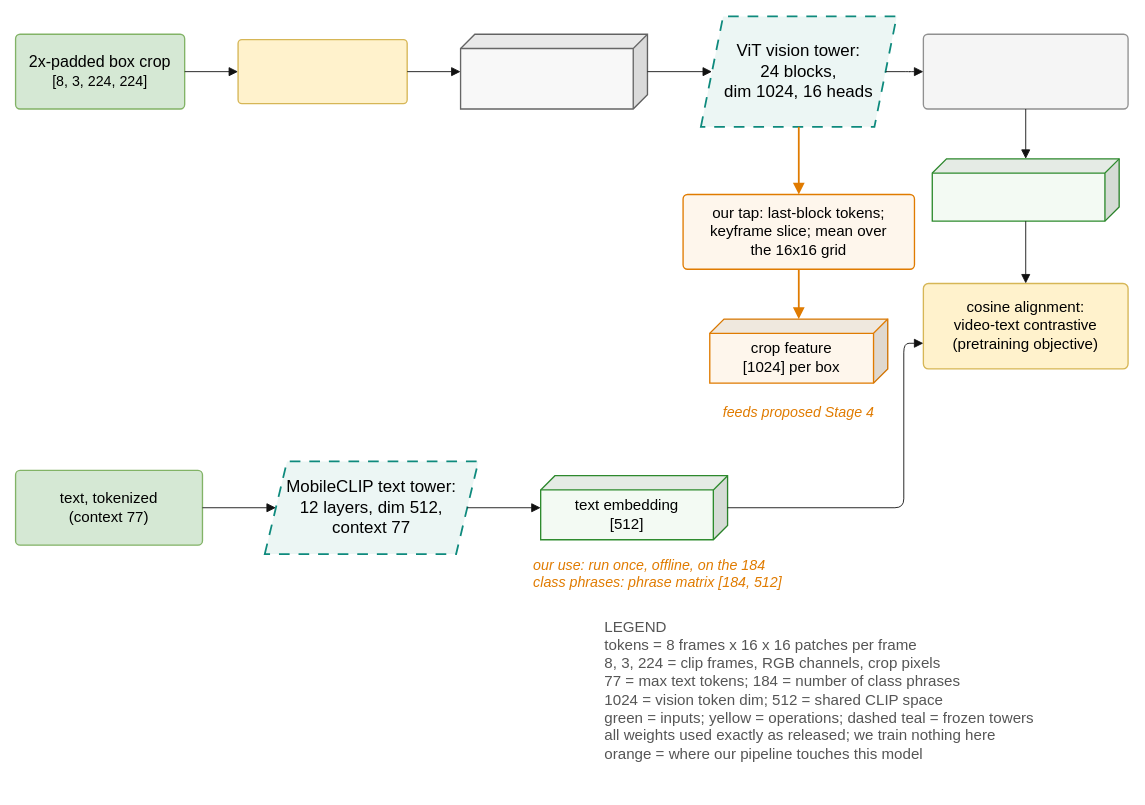
Image size: 1145x805. Some labels were removed from this diagram. The shapes that lost their labels are listed below. From the top down, each one's centre as x and y in pixels, then its label:
the point at 322,71: patch embed 14x14 per frame (tubelet 1)
the point at 554,71: tokens + pos embed [8·256, 1024]
the point at 1025,71: attention pool + projection to 512 (CLIP space)
the point at 1025,189: video embedding [512]
